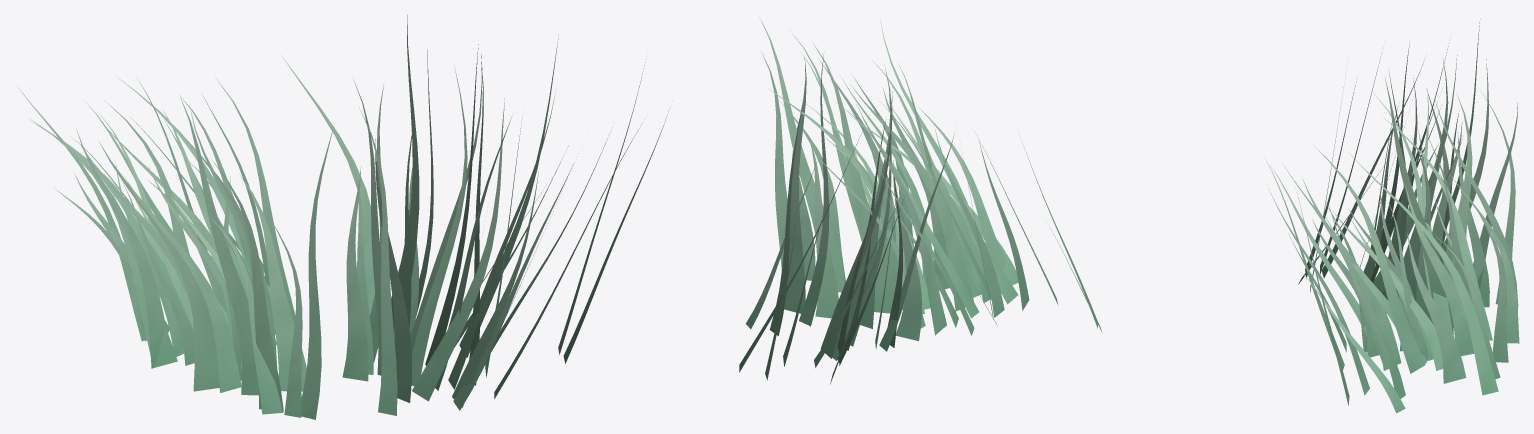
File: mesh-plant-012-bubbletip-tuft_LOD0.glb
3 views of the same model, side by side, from view 1: azimuth 30°, elevation 25°; view 2: azimuth 150°, elevation 25°; view 3: azimuth 270°, elevation 25° (orthographic). The views are drawn at different scales.
Visible parts, largest first — view 1: geometry_0; view 2: geometry_0; view 3: geometry_0.
Boxes of the visible parts, bbox=[...] form: geometry_0: bbox=[18, 15, 668, 419]; geometry_0: bbox=[739, 17, 1102, 384]; geometry_0: bbox=[1265, 19, 1519, 413].
Bounding box in the file's own units: 1.52 × 0.773 × 1.05.
